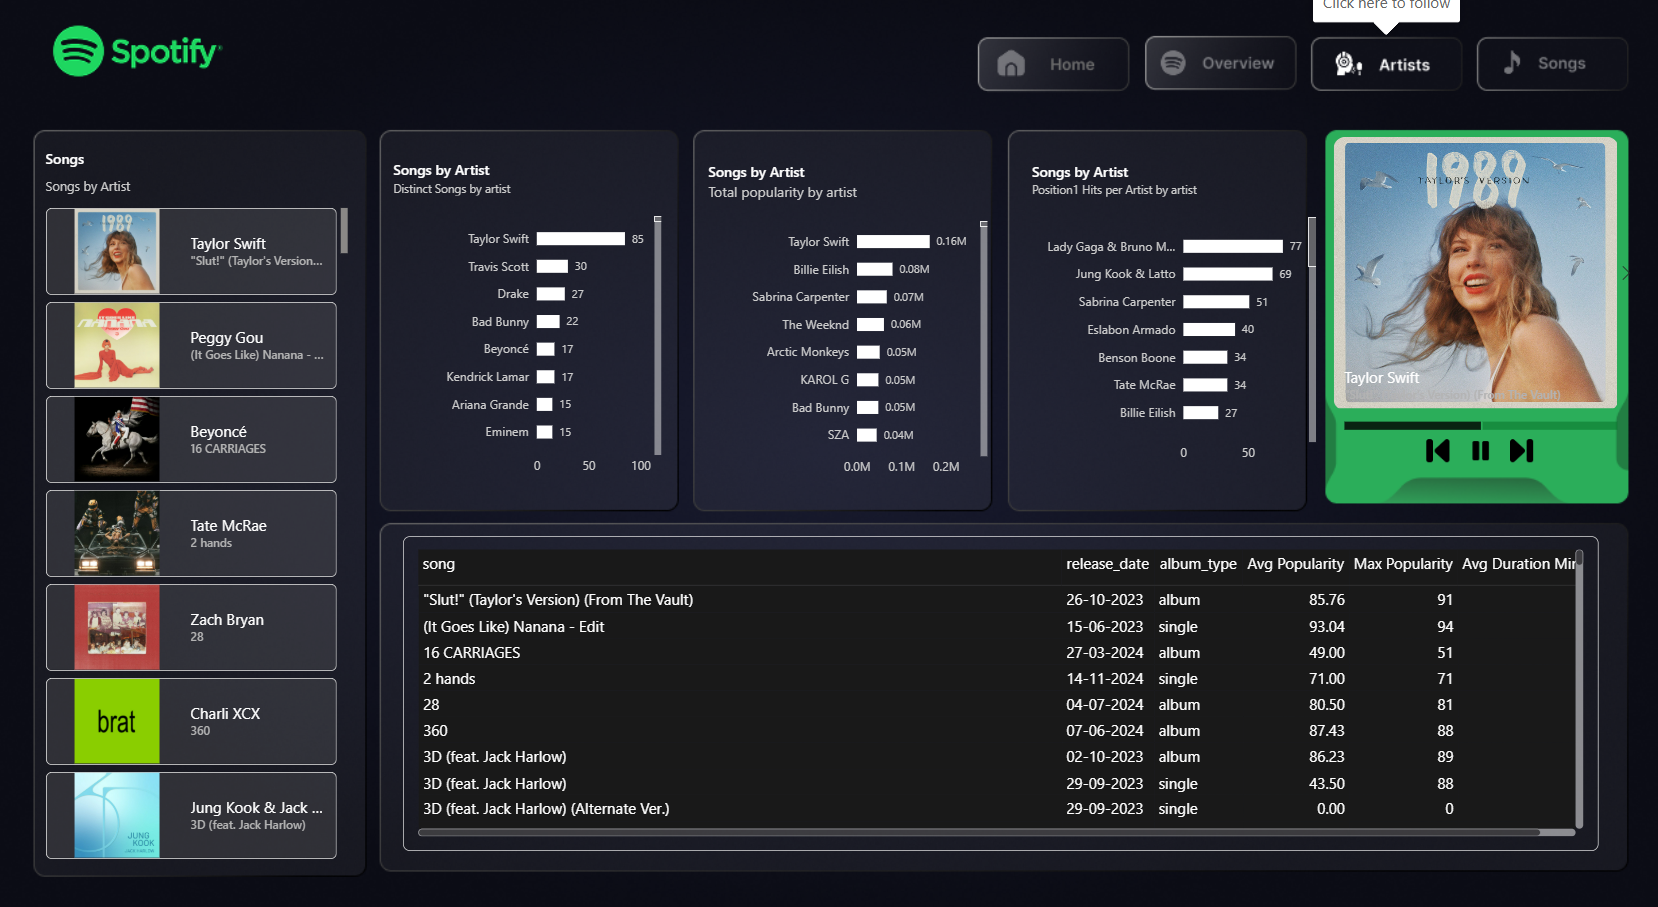

This screenshot's page, from the dashboard's own definition file:
{"tool":"powerbi","page":{"name":"Artist","canvas":[1920,1080],"ordinal":2},"visuals":[{"type":"actionButton","box":[1131,61.9,171.9,56.1],"z":0},{"type":"actionButton","box":[1322.9,61.9,171.9,56.1],"z":1000},{"type":"actionButton","box":[1514.7,61.9,171.9,56.1],"z":2000},{"type":"actionButton","box":[1704.7,61.9,171.9,56.1],"z":3000},{"type":"advancedSlicerVisual","title":"Songs","fields":{"Label":["Min(Top-50-world.album_cover_url)"],"Values":["Top-50-world.song"]},"box":[1520.1,173.7,367.4,314.9],"z":4000},{"type":"hundredPercentStackedBarChart","fields":{"Y":["_Measures.Avg Popularity","Avg(Top-50-world.popularity)"]},"box":[1536.8,447.7,345.6,112.2],"z":5000},{"type":"image","box":[1685.2,509.2,50.7,50.7],"z":6000},{"type":"image","box":[1639.9,520.1,39.8,30.8],"z":7000},{"type":"image","box":[1735.8,520.1,39.8,30.8],"z":8000},{"type":"shape","box":[1118.4,117.6,371,437.9],"z":9000},{"type":"advancedSlicerVisual","title":"Songs","fields":{"Label":["Min(Top-50-world.album_cover_url)"],"Values":["Top-50-world.song"]},"box":[59.7,188.2,347.5,819.8],"z":10000},{"type":"tableEx","fields":{"Values":["Top-50-world.song","Top-50-world.release_date","Top-50-world.album_type","_Measures.Avg Popularity","_Measures.Max Popularity","_Measures.Avg Duration Minutes"]},"box":[470.5,633.4,1373.5,361.9],"z":11000},{"type":"clusteredBarChart","title":"Songs by Artist","fields":{"Category":["Top-50-world.artist"],"Y":["_Measures.Distinct Songs"]},"box":[443.4,186.4,340.2,396.3],"z":12000},{"type":"clusteredBarChart","title":"Songs by Artist","fields":{"Category":["Top-50-world.artist"],"Y":["Sum(Top-50-world.popularity)"]},"box":[805.3,188.2,352.9,396.3],"z":13000},{"type":"clusteredBarChart","title":"Songs by Artist","fields":{"Category":["Top-50-world.artist"],"Y":["_Measures.Position1 Hits per Artist"]},"box":[1178.1,188.2,358.3,380],"z":14000},{"type":"shape","box":[1531,152,347.5,447],"z":15000}]}

Visuals, with their boxes in screenshot pixels (x1, y1, x2, y2), scaled from the page's 1920x1080 canvas onto the 1658x907 screenshot:
actionButton: x1=977 y1=52 x2=1125 y2=99
actionButton: x1=1142 y1=52 x2=1291 y2=99
actionButton: x1=1308 y1=52 x2=1456 y2=99
actionButton: x1=1472 y1=52 x2=1621 y2=99
"Songs" advancedSlicerVisual: x1=1313 y1=146 x2=1630 y2=410
hundredPercentStackedBarChart - _Measures.Avg Popularity x Avg(Top-50-world.popularity): x1=1327 y1=376 x2=1626 y2=470
image: x1=1455 y1=428 x2=1499 y2=470
image: x1=1416 y1=437 x2=1450 y2=463
image: x1=1499 y1=437 x2=1533 y2=463
shape: x1=966 y1=99 x2=1286 y2=467
"Songs" advancedSlicerVisual: x1=52 y1=158 x2=352 y2=847
tableEx - Top-50-world.song x Top-50-world.release_date: x1=406 y1=532 x2=1592 y2=836
"Songs by Artist" clusteredBarChart: x1=383 y1=157 x2=677 y2=489
"Songs by Artist" clusteredBarChart: x1=695 y1=158 x2=1000 y2=491
"Songs by Artist" clusteredBarChart: x1=1017 y1=158 x2=1327 y2=477
shape: x1=1322 y1=128 x2=1622 y2=503
